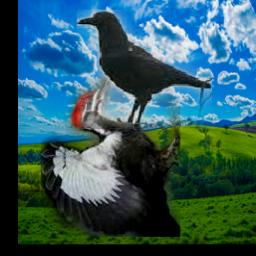Crow: (77, 10, 212, 129)
Woodpecker: (41, 69, 180, 238)
